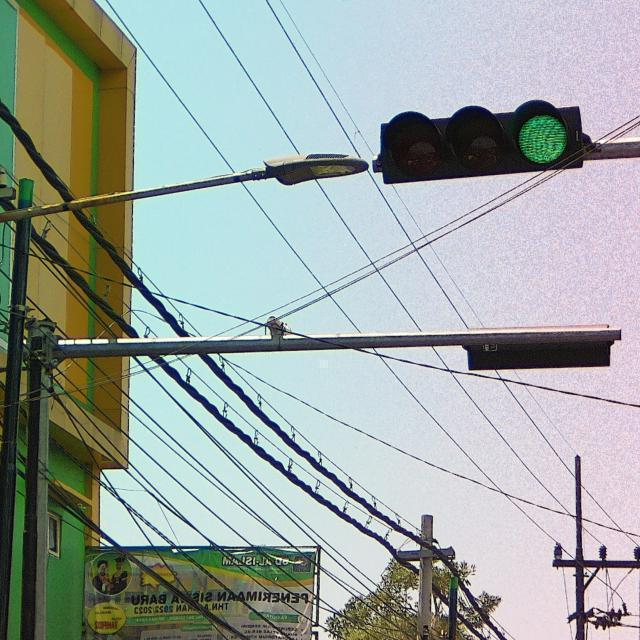green_light: (370, 98, 589, 182)
